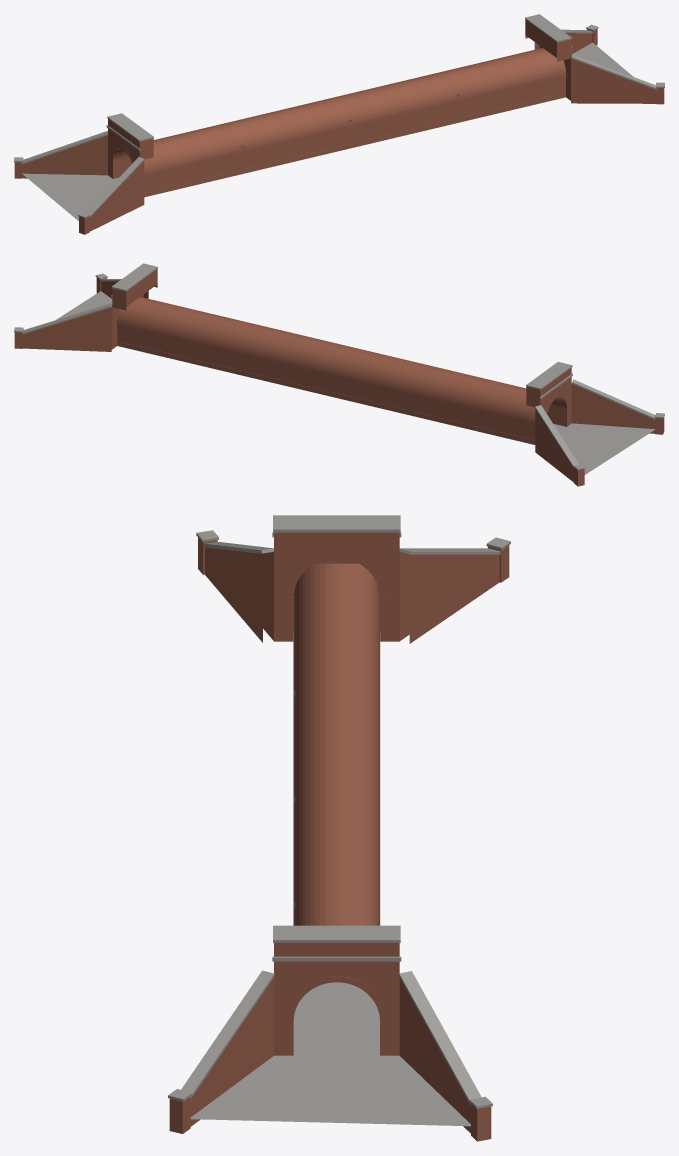
The model's file is tunnel_kleindal.glb.
3 views of the same model, one above another, from view 1: azimuth 30°, elevation 25°; view 2: azimuth 150°, elevation 25°; view 3: azimuth 270°, elevation 25° (orthographic). The views are drawn at different scales.
Visible parts, largest first — view 1: tunnel_kleindal; view 2: tunnel_kleindal; view 3: tunnel_kleindal.
Part boxes in pixels (x1,y1,x2,y2): tunnel_kleindal: (14, 14, 664, 234); tunnel_kleindal: (14, 263, 664, 486); tunnel_kleindal: (168, 515, 510, 1141).
Size of the model in its own units: 70.77 by 7.69 by 18.04.
